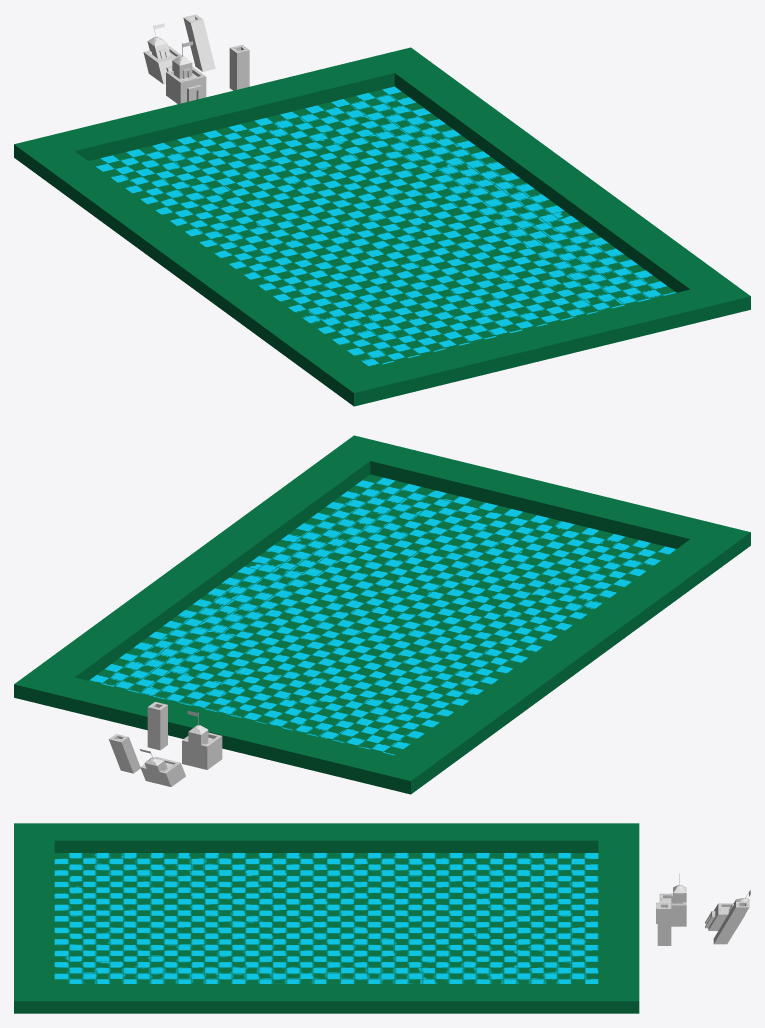
File: testassets2x2.fbx
3 views of the same model, one above another, from view 1: azimuth 30°, elevation 25°; view 2: azimuth 150°, elevation 25°; view 3: azimuth 270°, elevation 25° (orthographic). The views are drawn at different scales.
Parts seen in each view (by area): view 1: Plane002, castle002, wall_endcap004, castle001, wall_endcap005; view 2: Plane002, castle002, castle001, wall_endcap005, wall_endcap004; view 3: Plane002, castle002, wall_endcap004, wall_endcap005, castle001.
Part boxes in pixels (x1,y1,x2,y2): Plane002: (14, 47, 750, 406); castle002: (166, 41, 206, 103); wall_endcap004: (183, 14, 215, 71); castle001: (143, 23, 181, 84); wall_endcap005: (229, 44, 249, 90); Plane002: (14, 435, 750, 794); castle002: (182, 710, 222, 769); castle001: (140, 749, 185, 786); wall_endcap005: (147, 701, 167, 750); wall_endcap004: (108, 734, 140, 773); Plane002: (14, 823, 639, 1013); castle002: (656, 873, 686, 926); wall_endcap004: (713, 901, 749, 944); wall_endcap005: (657, 903, 671, 945); castle001: (705, 889, 750, 930).
Size of the model in its own units: 6200 by 772 by 10845.
